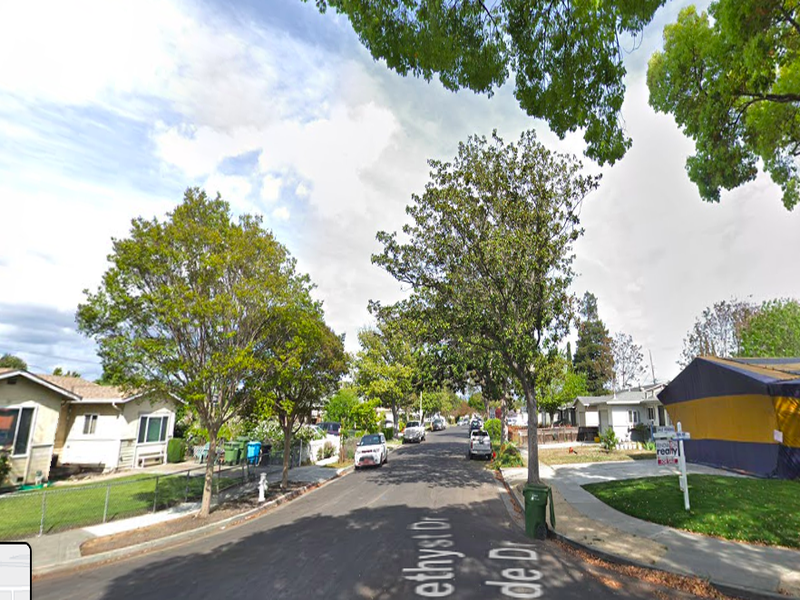tree: (367, 129, 605, 529), (76, 184, 315, 520)
